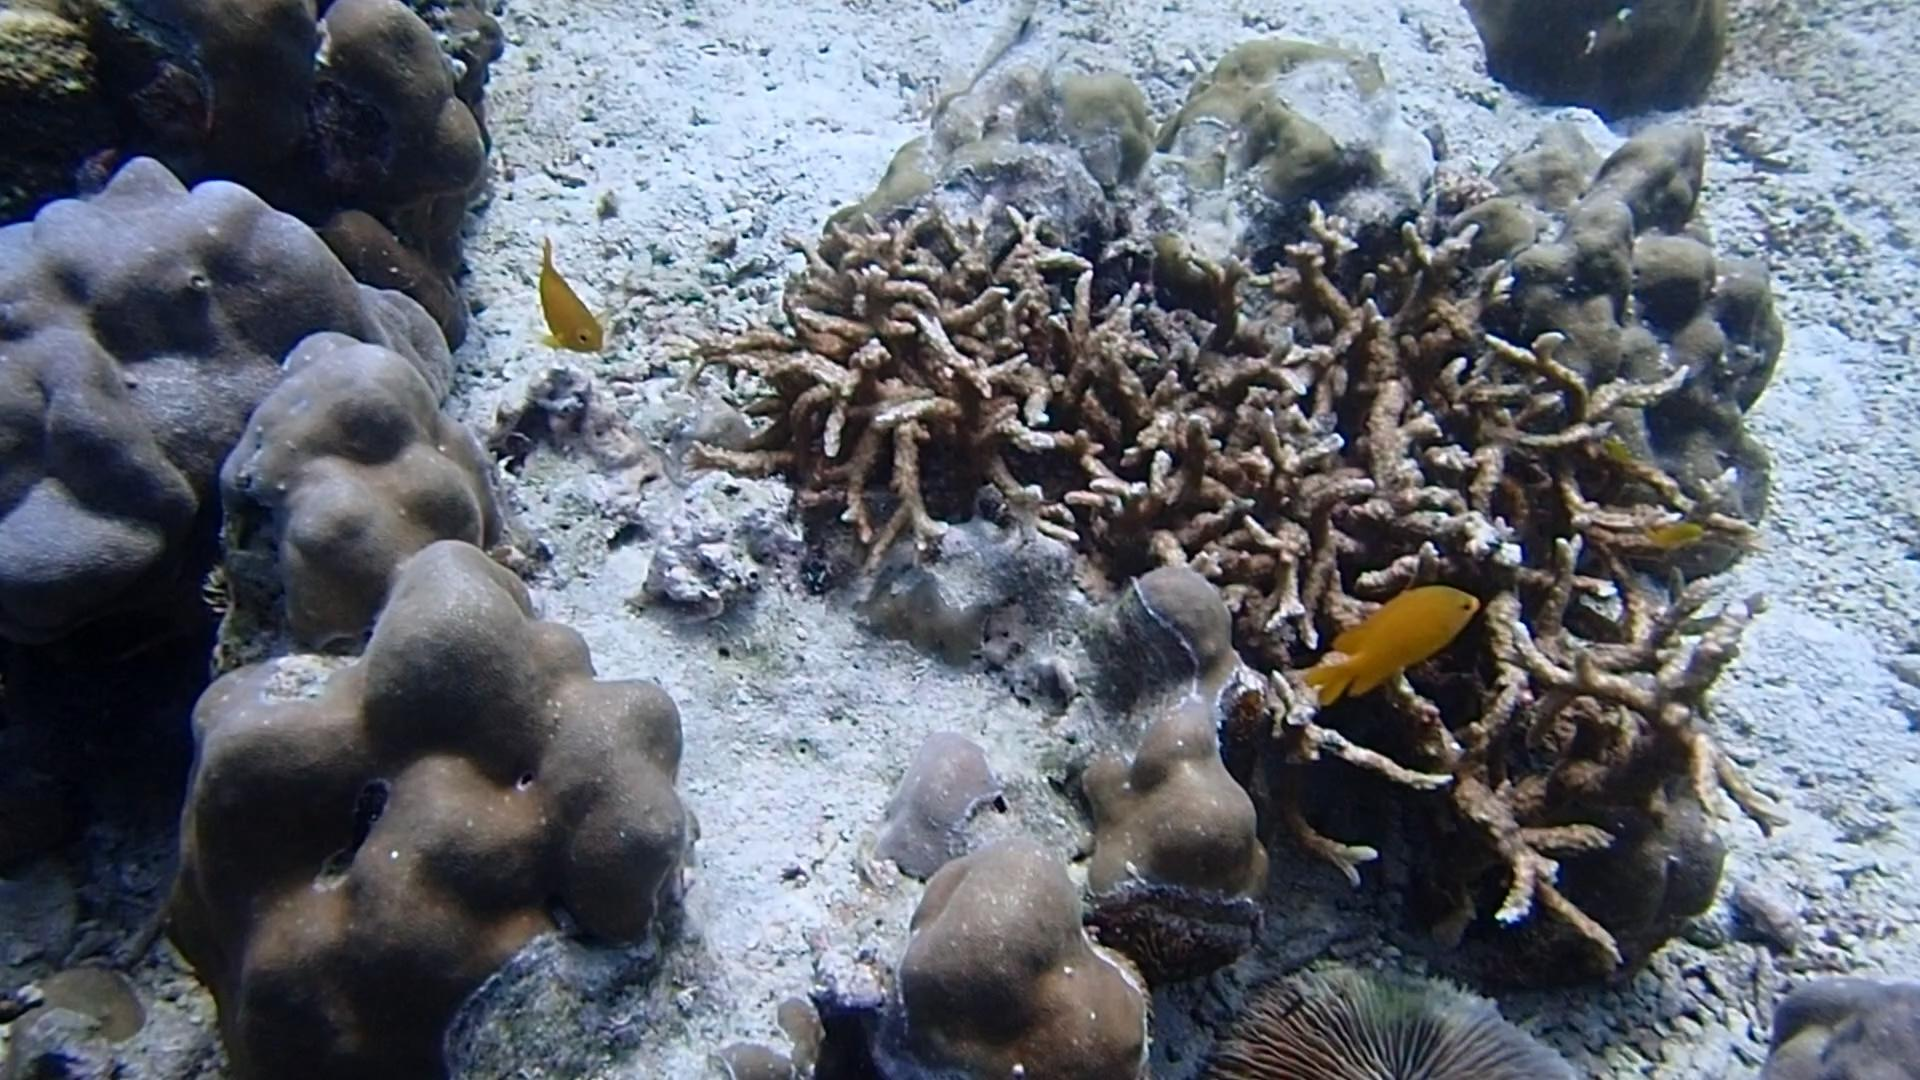Yellow Fish: (1295, 578, 1486, 708), (521, 236, 618, 363), (1647, 512, 1704, 556)
